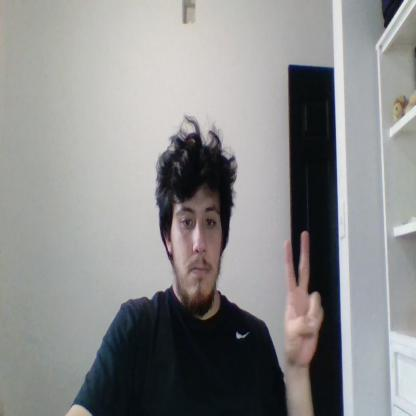V: (284, 230, 324, 366)
